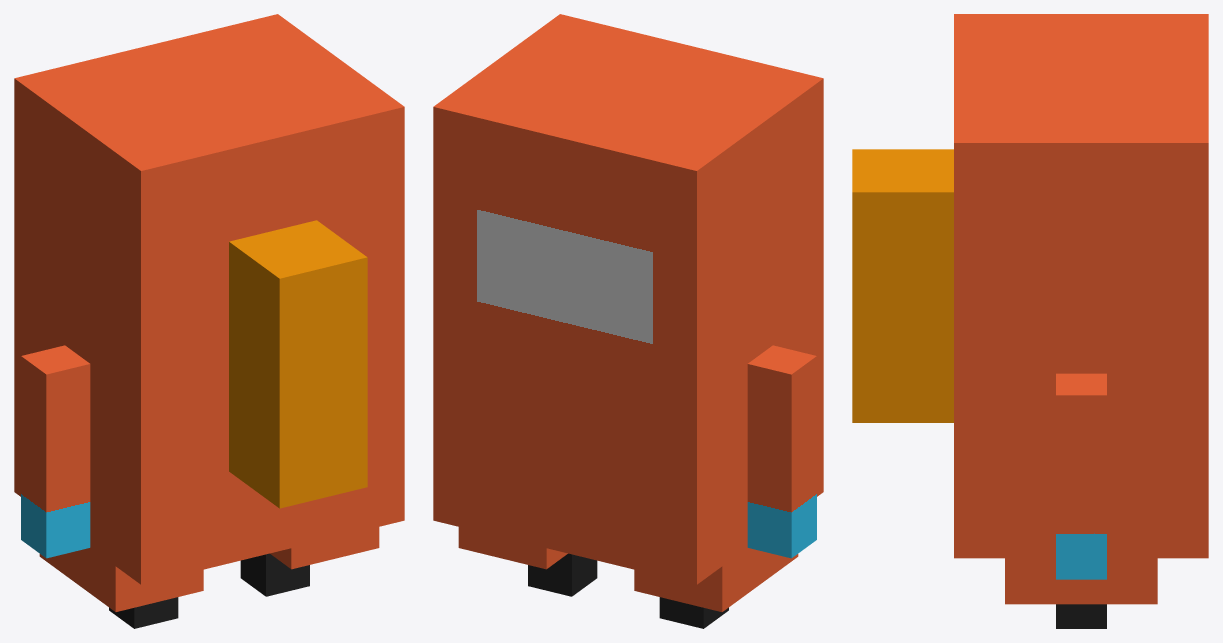
File: chr_hazmat2.fbx
3 renders of one model, left to right at view 1: azimuth 30°, elevation 25°; view 2: azimuth 150°, elevation 25°; view 3: azimuth 270°, elevation 25°, orthographic.
Visible parts, largest first — view 1: chr_hazmat2; view 2: chr_hazmat2; view 3: chr_hazmat2.
Boxes of the visible parts, x1=… form: chr_hazmat2: x1=14, y1=14, x2=404, y2=628; chr_hazmat2: x1=433, y1=14, x2=823, y2=628; chr_hazmat2: x1=852, y1=14, x2=1208, y2=628.
Bounding box in the file's own units: 0.8 × 0.7 × 1.1.
Materials: 1 (1 with a texture image).
